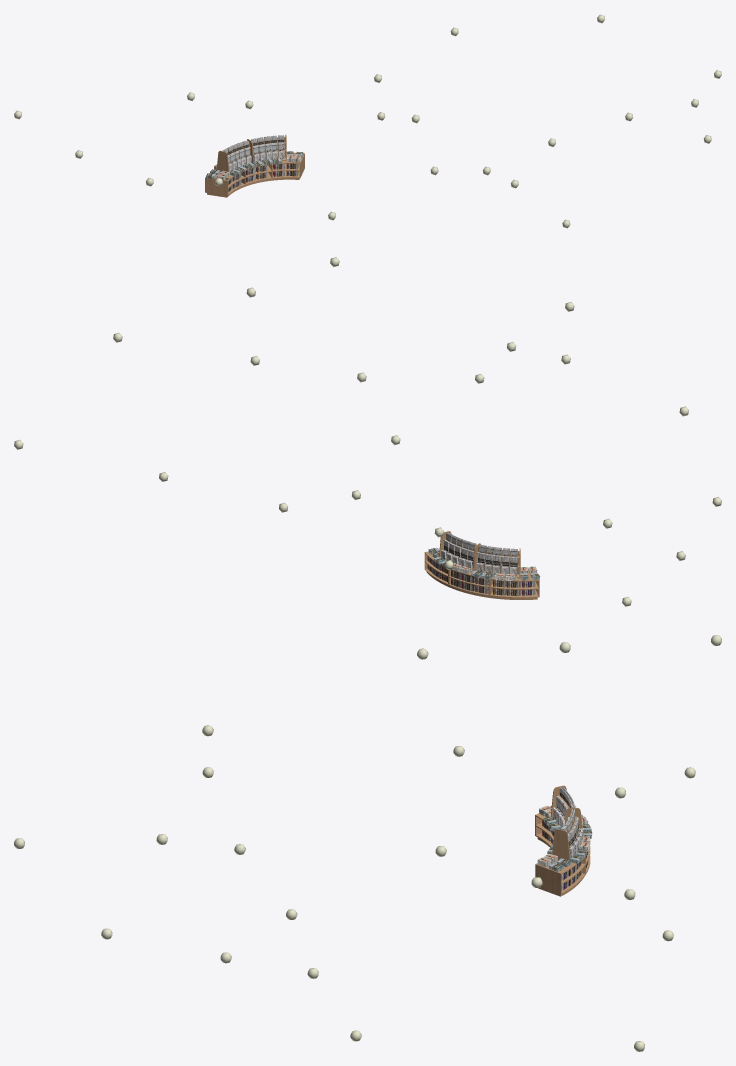
Rendered from 园高书架.fbx.
3 renders of one model, top to bottom at view 1: azimuth 30°, elevation 25°; view 2: azimuth 150°, elevation 25°; view 3: azimuth 270°, elevation 25°, orthographic. The views are drawn at different scales.
Parts seen in each view (by area): view 1: Group005; view 2: Group005; view 3: Group005.
Boxes of the visible parts, bbox=[...] form: Group005: bbox=[205, 134, 304, 197]; Group005: bbox=[424, 531, 540, 599]; Group005: bbox=[535, 785, 592, 896].
Size of the model in its own units: 861 by 135 by 654.
